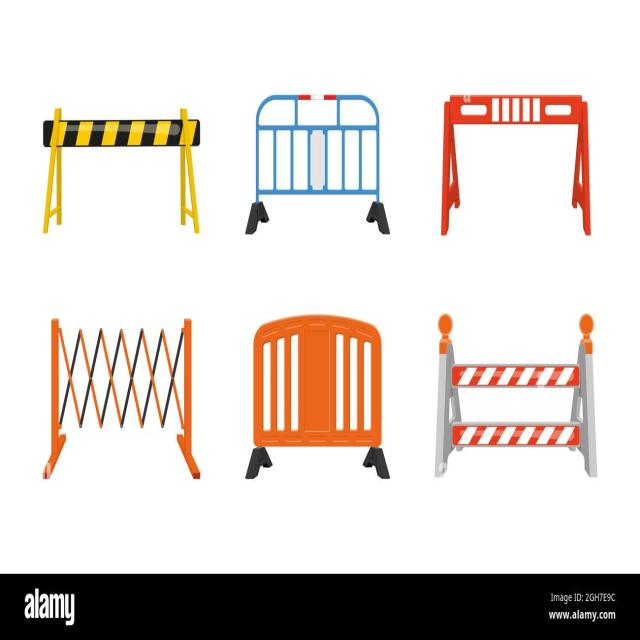cone: (434, 311, 597, 478), (42, 316, 200, 481), (245, 313, 390, 480), (440, 93, 591, 237), (245, 92, 390, 235), (41, 106, 200, 235)
